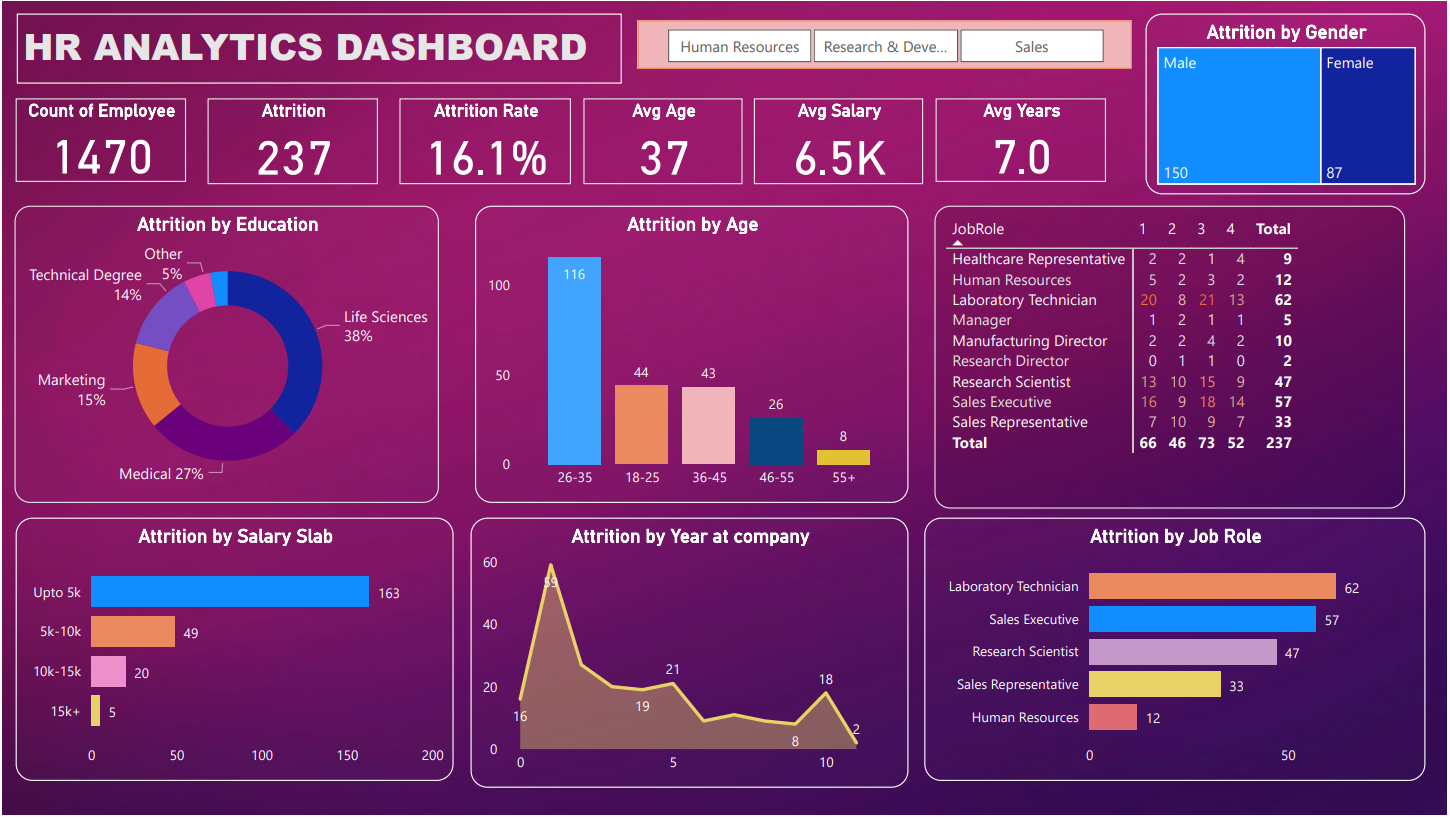

This screenshot's page, from the dashboard's own definition file:
{"tool":"powerbi","page":{"name":"Page 1","canvas":[1280,720],"ordinal":0},"visuals":[{"type":"card","title":"Count of Employee","fields":{"Values":["Sum(HR_Analytics.EmployeeCount)"]},"box":[12.1,85.6,150.8,74.8],"z":0},{"type":"card","title":"Attrition","fields":{"Values":["Sum(HR_Analytics.AttritionCount)"]},"box":[182.1,85.6,150.8,76],"z":1000},{"type":"card","title":"Attrition Rate","fields":{"Values":["HR_Analytics.AttritionRate"]},"box":[352.2,85.6,152,76],"z":2000},{"type":"card","title":"Avg Age","fields":{"Values":["Avg(HR_Analytics.Age)"]},"box":[515,85.6,141.1,76],"z":3000},{"type":"card","title":"Avg Salary ","fields":{"Values":["Avg(HR_Analytics.MonthlyIncome)"]},"box":[665.7,85.6,150.8,76],"z":4000},{"type":"card","title":"Avg Years","fields":{"Values":["Avg(HR_Analytics.YearsAtCompany)"]},"box":[827.3,85.6,150.8,74.8],"z":5000},{"type":"donutChart","title":"Attrition by Education","fields":{"Category":["HR_Analytics.EducationField"],"Y":["Sum(HR_Analytics.AttritionCount)"]},"box":[11.4,181.4,375.7,262.9],"z":6000},{"type":"treemap","title":"Attrition by Gender","fields":{"Group":["HR_Analytics.Gender","HR_Analytics.AgeGroup"],"Values":["Sum(HR_Analytics.AttritionCount)"]},"box":[1012.9,11.4,248.6,160],"z":7000},{"type":"barChart","title":"Attrition by Salary Slab","fields":{"Category":["HR_Analytics.SalarySlab"],"Y":["Sum(HR_Analytics.AttritionCount)"]},"box":[12.1,457.1,388.3,232.8],"z":8000},{"type":"barChart","title":"Attrition by Job Role","fields":{"Category":["HR_Analytics.JobRole"],"Y":["Sum(HR_Analytics.AttritionCount)"]},"box":[817.1,457.1,444.3,232.9],"z":9000},{"type":"areaChart","title":"Attrition by Year at company","fields":{"Category":["HR_Analytics.YearsAtCompany"],"Y":["Sum(HR_Analytics.AttritionCount)"]},"box":[414.9,457.1,388.3,238.8],"z":10000},{"type":"textbox","box":[12.9,11.4,535.7,61.4],"z":11000},{"type":"pivotTable","fields":{"Rows":["HR_Analytics.JobRole"],"Columns":["HR_Analytics.JobSatisfaction"],"Values":["Sum(HR_Analytics.AttritionCount)"]},"box":[826.5,181.3,416.1,267.7],"z":13000},{"type":"columnChart","title":"Attrition by Age","fields":{"Category":["HR_Analytics.AgeGroup"],"Y":["Sum(HR_Analytics.AttritionCount)"]},"box":[418.6,181.4,384.3,262.9],"z":14000},{"type":"slicer","fields":{"Values":["HR_Analytics.Department"]},"box":[562.9,17.1,438.6,42.9],"z":14001}]}

Visuals, with their boxes in screenshot pixels (x1, y1, x2, y2), scaled from the page's 1280x720 canvas onto the 1450x819 screenshot:
"Count of Employee" card: 14,97,185,182
"Attrition" card: 206,97,377,184
"Attrition Rate" card: 399,97,571,184
"Avg Age" card: 583,97,743,184
"Avg Salary " card: 754,97,925,184
"Avg Years" card: 937,97,1108,182
"Attrition by Education" donutChart: 13,206,439,505
"Attrition by Gender" treemap: 1147,13,1429,195
"Attrition by Salary Slab" barChart: 14,520,454,785
"Attrition by Job Role" barChart: 926,520,1429,785
"Attrition by Year at company" areaChart: 470,520,910,792
textbox: 15,13,621,83
pivotTable - HR_Analytics.JobRole x HR_Analytics.JobSatisfaction: 936,206,1408,511
"Attrition by Age" columnChart: 474,206,910,505
slicer - HR_Analytics.Department: 638,19,1135,68
